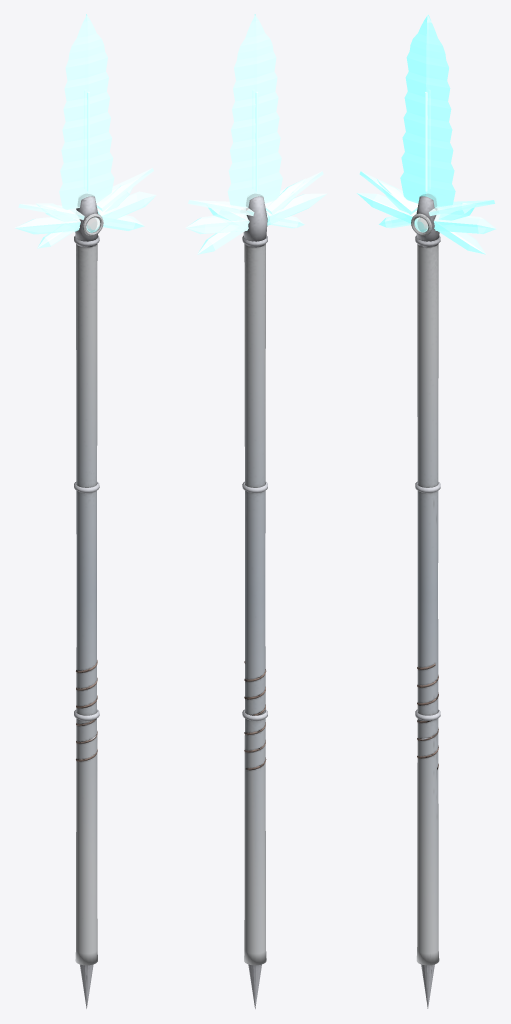
The model's file is arma_lend_lanca_gelo.glb.
3 renders of one model, left to right at view 1: azimuth 30°, elevation 25°; view 2: azimuth 210°, elevation 25°; view 3: azimuth 330°, elevation 25°, orthographic.
Parts seen in each view (by area): view 1: arma_lend_lanca_gelo, ponta, ac_lanca-11, ac_lanca11, orelha1, ac_lanca10, ac_lanca-12, orelha-1, ac_lanca-10, ac_lanca12; view 2: arma_lend_lanca_gelo, ponta, ac_lanca11, ac_lanca-11, orelha-1, ac_lanca10, ac_lanca12, orelha1, ac_lanca-12, ponta_runa1, ac_lanca-10; view 3: arma_lend_lanca_gelo, ponta, ac_lanca11, ac_lanca-11, ac_lanca10, orelha-1, orelha1, ac_lanca12, ac_lanca-12.
Boxes of the visible parts, left/top/right/bottom form: arma_lend_lanca_gelo: left=74, top=194, right=103, bottom=1008; ponta: left=59, top=14, right=114, bottom=209; ac_lanca-11: left=15, top=216, right=80, bottom=234; ac_lanca11: left=97, top=191, right=156, bottom=224; orelha1: left=96, top=168, right=153, bottom=211; ac_lanca10: left=102, top=213, right=144, bottom=230; ac_lanca-12: left=36, top=203, right=80, bottom=227; orelha-1: left=18, top=204, right=84, bottom=219; ac_lanca-10: left=37, top=224, right=79, bottom=248; ac_lanca12: left=97, top=181, right=135, bottom=215; arma_lend_lanca_gelo: left=242, top=194, right=267, bottom=1008; ponta: left=227, top=14, right=282, bottom=209; ac_lanca11: left=185, top=214, right=248, bottom=234; ac_lanca-11: left=266, top=193, right=327, bottom=225; orelha-1: left=265, top=171, right=323, bottom=214; ac_lanca10: left=197, top=224, right=248, bottom=254; ac_lanca12: left=206, top=202, right=249, bottom=227; orelha1: left=188, top=200, right=254, bottom=215; ac_lanca-12: left=266, top=178, right=305, bottom=219; ponta_runa1: left=255, top=92, right=258, bottom=191; ac_lanca-10: left=267, top=214, right=304, bottom=228; arma_lend_lanca_gelo: left=411, top=194, right=440, bottom=1008; ponta: left=400, top=14, right=455, bottom=209; ac_lanca11: left=434, top=214, right=495, bottom=234; ac_lanca-11: left=357, top=193, right=416, bottom=223; ac_lanca10: left=434, top=222, right=485, bottom=254; orelha-1: left=359, top=171, right=418, bottom=214; orelha1: left=429, top=200, right=494, bottom=215; ac_lanca12: left=433, top=202, right=475, bottom=224; ac_lanca-12: left=377, top=179, right=416, bottom=220.
Size of the model in its own units: 0.3899 by 2.62 by 0.0707.
13 materials, 1 textured.
